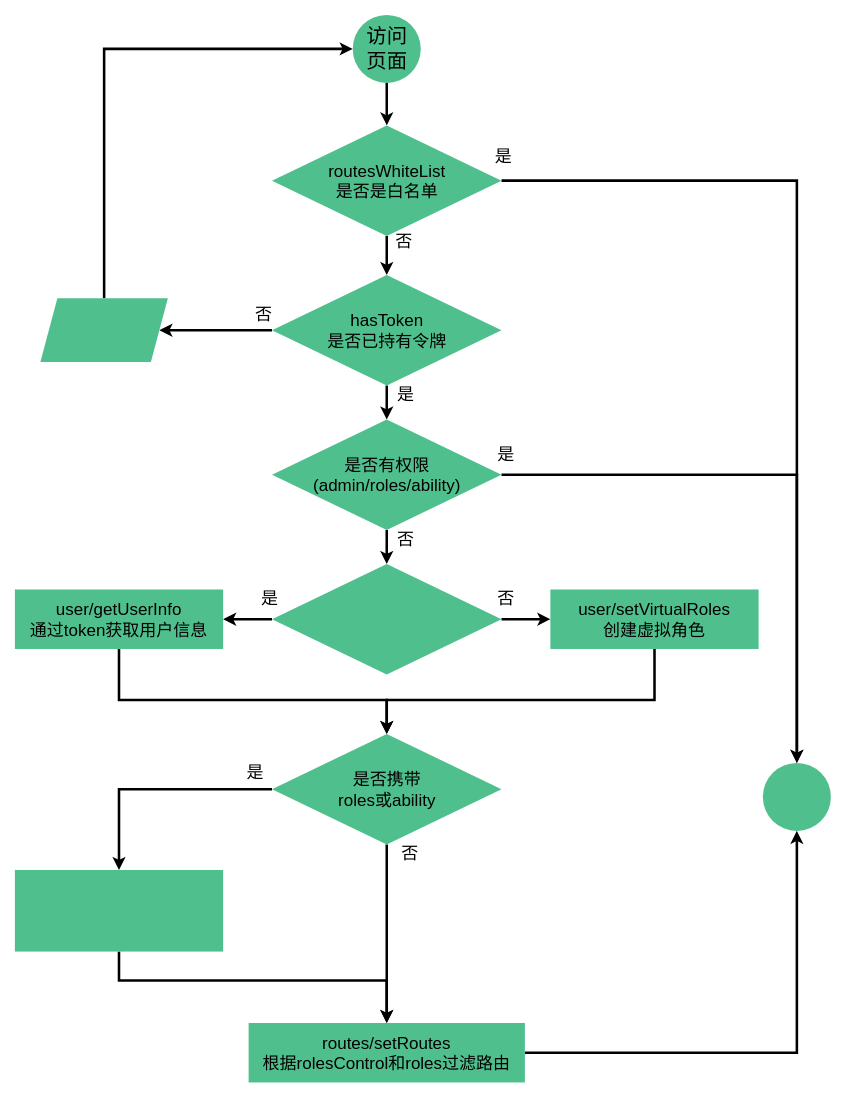
The diagram is 845 pixels wide and 1097 high, and some of its shapes have lost their labels. Each missing label, with the box of its shape:
acl/setFull acl/setRole acl/setAbility: (14, 870, 223, 951)
loginInterception 是否开启登录拦截: (272, 564, 501, 674)
完成 访问: (762, 762, 830, 830)
登录页: (40, 298, 167, 362)
